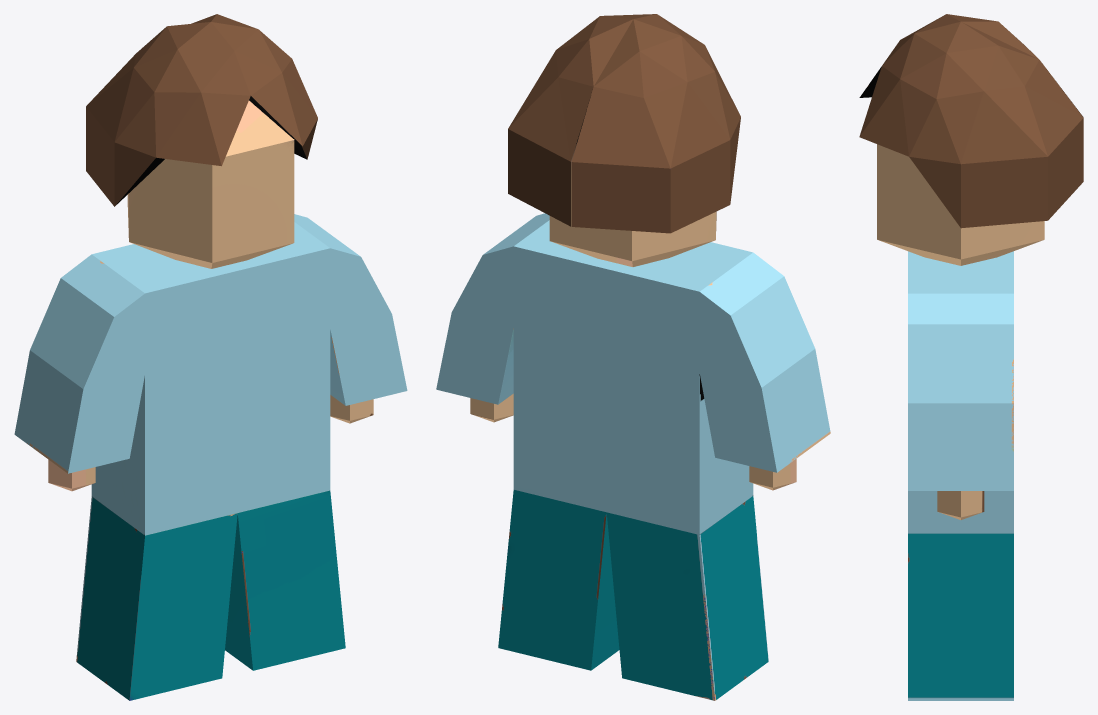
Rendered from person_03.glb.
3 views of the same model, side by side, from view 1: azimuth 30°, elevation 25°; view 2: azimuth 150°, elevation 25°; view 3: azimuth 270°, elevation 25° (orthographic).
Visible parts, largest first — view 1: KidB; view 2: KidB; view 3: KidB.
Part boxes in pixels (x1,y1,x2,y2): KidB: [14, 14, 407, 700]; KidB: [436, 14, 830, 700]; KidB: [859, 14, 1083, 700].
Bounding box in the file's own units: 1.32 × 2.35 × 0.7626.
Materials: 1 (1 with a texture image).
